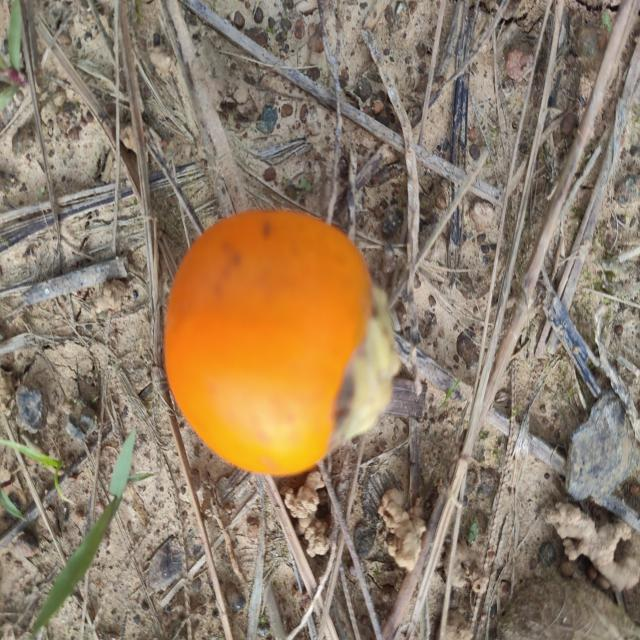good: (163, 210, 403, 480)
